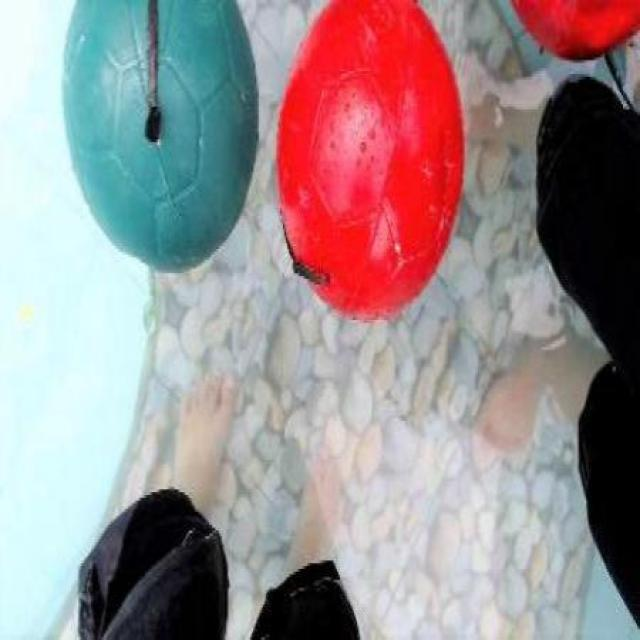buoy: (276, 1, 466, 322), (61, 0, 258, 273), (509, 0, 637, 60)
